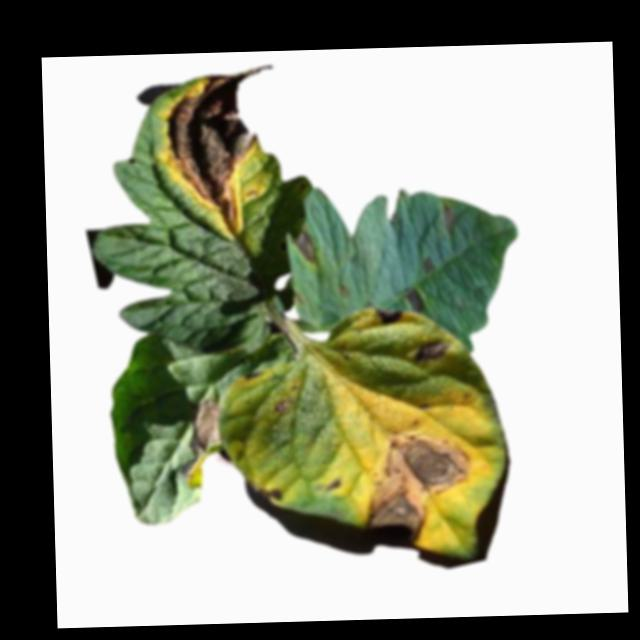Early_blight: (154, 59, 277, 237), (360, 423, 486, 548), (177, 397, 225, 491), (411, 339, 454, 363), (253, 475, 286, 502), (293, 228, 318, 263), (373, 305, 406, 327), (438, 202, 458, 237), (405, 284, 428, 312), (271, 397, 293, 416), (421, 253, 437, 275), (325, 473, 344, 491)
